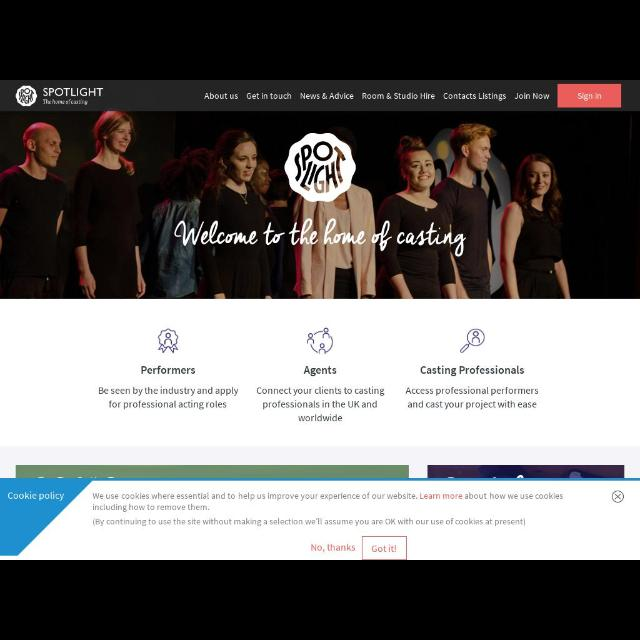icon: (612, 491, 624, 503)
image: (1, 112, 640, 298), (15, 85, 104, 107), (306, 328, 334, 354), (460, 328, 486, 354), (156, 328, 180, 354)
multitab: (195, 80, 557, 112)
text: (91, 492, 565, 528), (257, 387, 385, 423), (97, 387, 240, 411), (405, 386, 539, 410), (421, 364, 524, 378), (140, 364, 197, 376), (7, 491, 65, 502), (361, 92, 435, 100), (442, 92, 506, 101), (304, 364, 338, 378), (300, 92, 354, 100), (245, 92, 292, 100), (312, 544, 356, 552), (514, 92, 550, 100), (205, 92, 239, 100)
textbutton: (558, 84, 620, 108), (362, 537, 406, 559)
